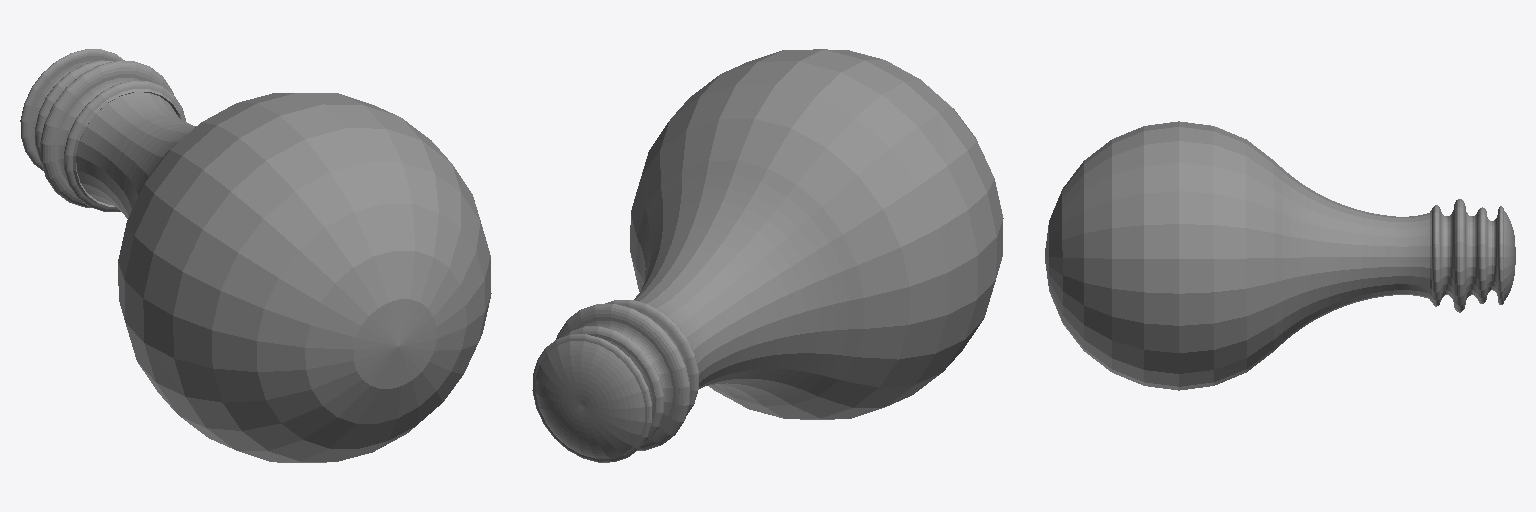
The robot description file, URDF, robot "cube.urdf":
<?xml version="0.0" ?> 
<robot name="cube.urdf"> 
<link name="legobrick"> 
<contact> 
<lateral_friction value="1.0"/>
<rolling_friction value="0.0"/>
<contact_cfm value="0.0"/>
<contact_erp value="1.0"/>
</contact> 
<inertial> 
<origin rpy="0 0 0" xyz="0.0 0.0 0.0"/> 
<mass value="0.1"/> 
<inertia ixx="1" ixy="0" ixz="0" iyy="1" iyz="0" izz="1"/> 
</inertial> 
<visual> 
<origin rpy="1.570796 0 0" xyz="-1.2358084300950483e-07 -0.020873554961067336 -4.726569228762062e-05"/> 
<geometry> 
<mesh filename="2ea71440efc67b9361fc15298b411505.obj" scale="1 1 1"/> 
</geometry> 
<material name="yellow"> 
<color rgba="0.6 0.6 0.6 1"/> 
</material> 
</visual> 
<collision> 
<origin rpy="1.570796 0 0" xyz="-1.2358084300950483e-07 -0.020873554961067336 -4.726569228762062e-05"/> 
<geometry> 
<mesh filename="2ea71440efc67b9361fc15298b411505_col.obj" scale="1 1 1"/> 
</geometry> 
</collision> 
</link> 
</robot>

--- What the picture shows (computed from the rendered views, not written in the file) ---
The picture shows the robot from 3 angles, left to right: view 1: azimuth 30°, elevation 25°; view 2: azimuth 150°, elevation 25°; view 3: azimuth 270°, elevation 25°; orthographic projection.
Robot: cube.urdf — 1 links, 0 joints (none); root link legobrick; default pose: every joint at zero.
Visible links, largest first — view 1: legobrick; view 2: legobrick; view 3: legobrick.
Boxes of the visible links, x1,y1,x2,y2 form: legobrick: (20, 49, 491, 462); legobrick: (532, 49, 1003, 462); legobrick: (1045, 121, 1515, 390).
Bounding box of the posed robot: 0.045 × 0.0792 × 0.045 m (x, y, z).
1 mesh visuals loaded from 1 distinct referenced files (1 OBJ).